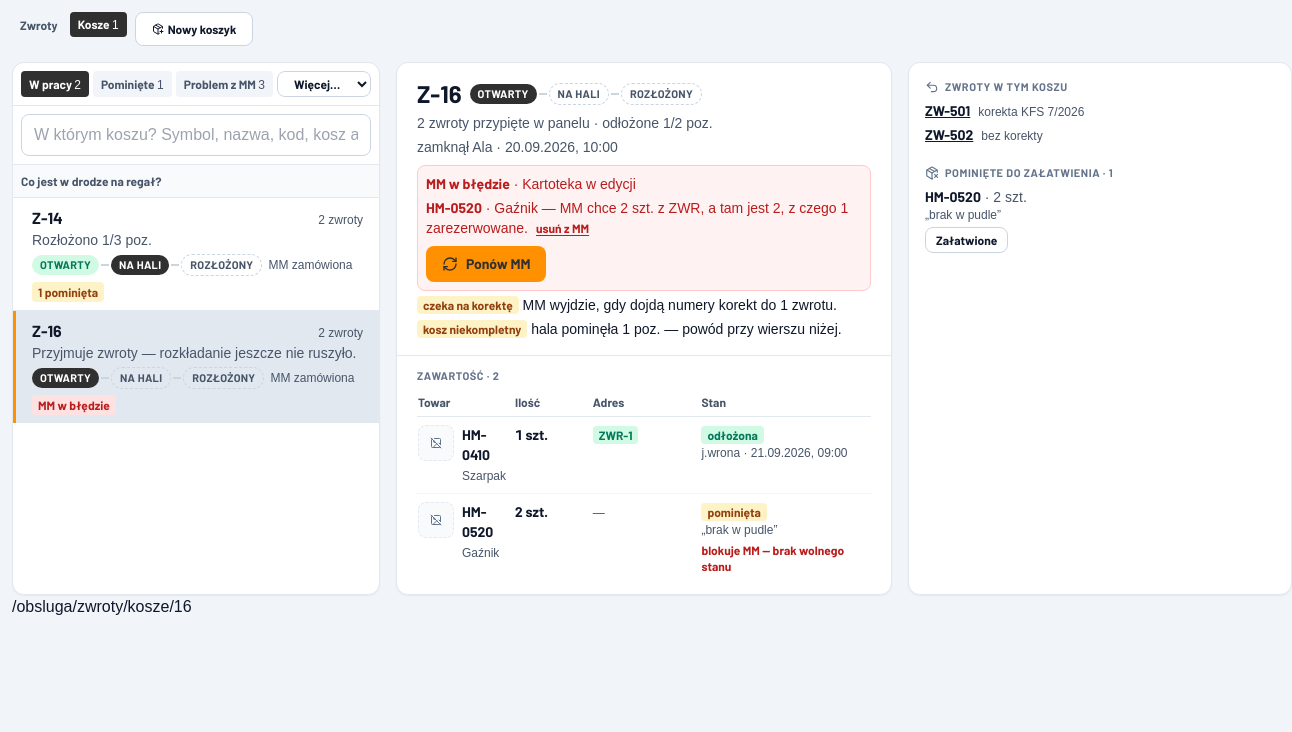
Scenario: Kosze w zakładce Zwroty › MM w błędzie ponawia się z karty kosza jednym przyciskiem (0.503.0)
The width and height of the screenshot is (1292, 732).
Click the button "Ponów MM". click: [486, 264]
box: [426,246,546,282]
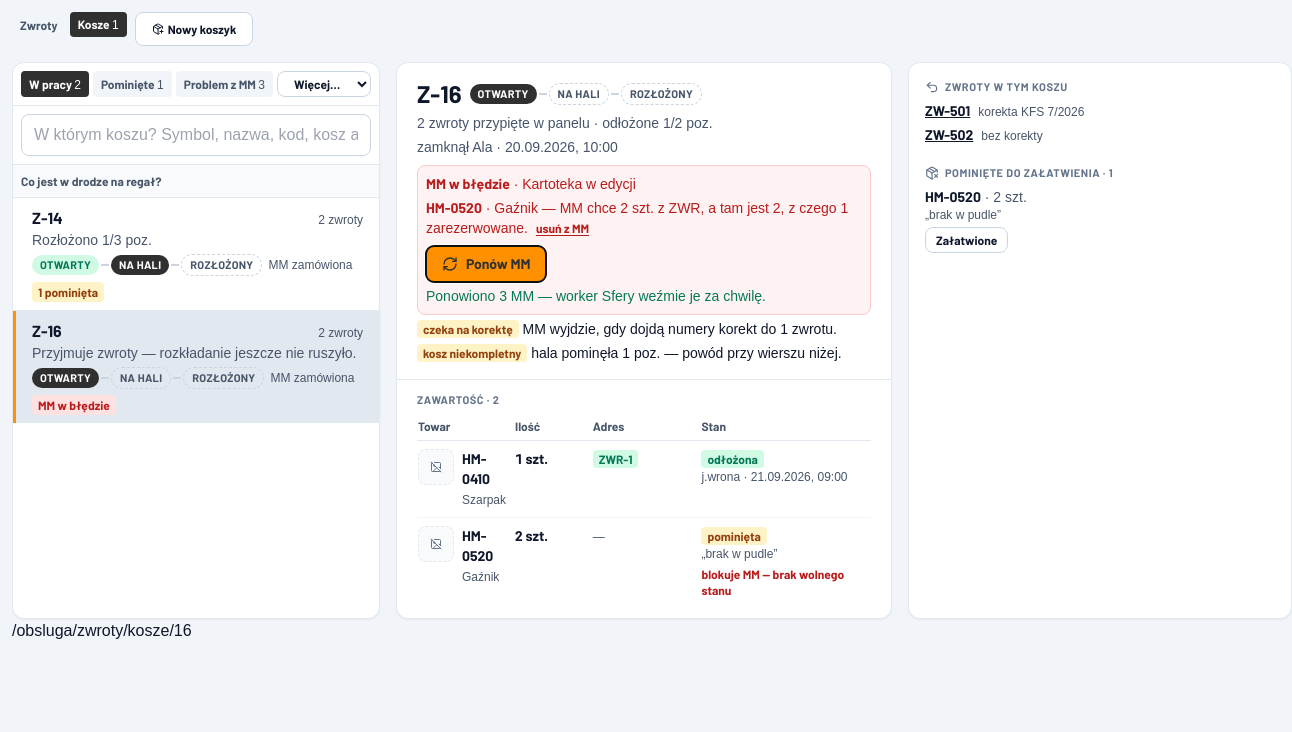
Result: the text "Ponowiono 3 MM — worker Sfery weźmie je za chwilę." is shown at [426,288,766,304]
